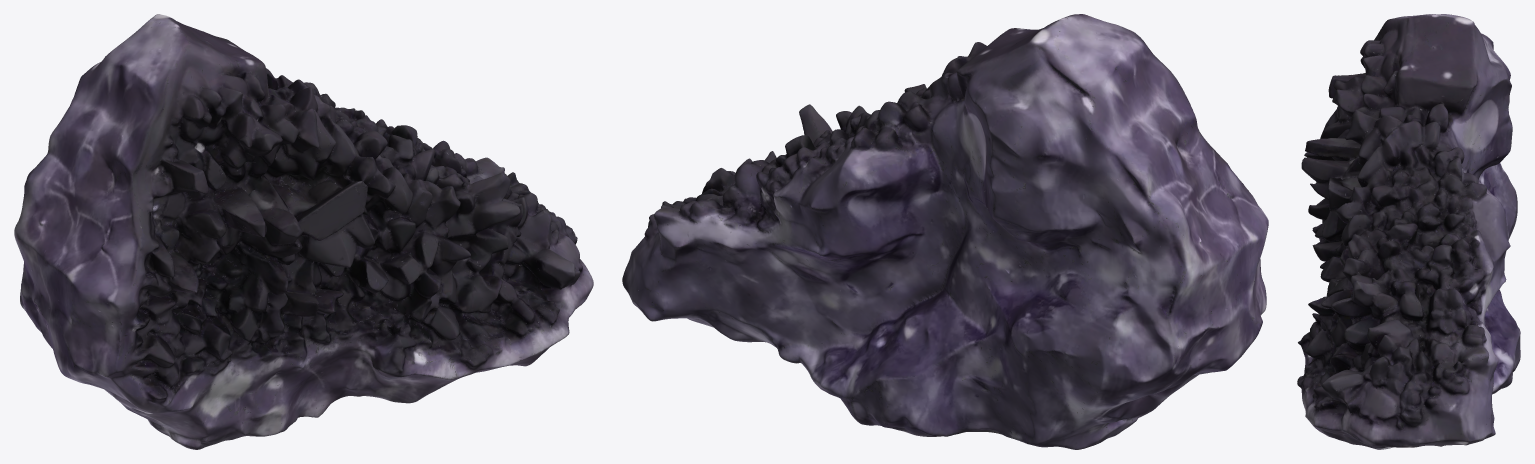
The model's file is Meshy_AI_A_thick_freestanding_0403222116_texture.compressed.glb.
The picture shows the model from 3 angles, left to right: view 1: azimuth 30°, elevation 25°; view 2: azimuth 150°, elevation 25°; view 3: azimuth 270°, elevation 25°; orthographic projection. The views are drawn at different scales.
Bounding box in the file's own units: 2 × 1.39 × 0.8724.
Materials: 1 (1 with a texture image).
